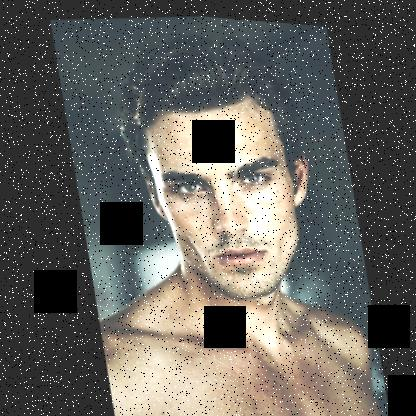Male: (131, 84, 324, 305)
